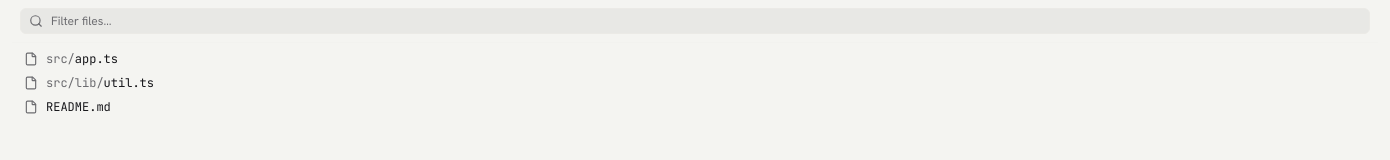
Test: FilesPane › filters the list by the query
Type "util" into the field labelled "Filter files".
click(706, 21); type("util")  # box [51,13,1361,29]
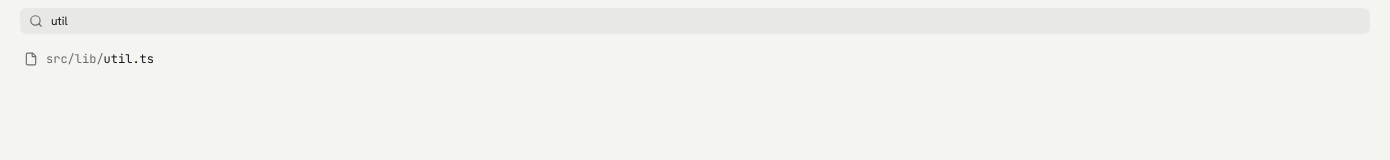
Expected: the button titled "src/lib/util.ts" is shown, [12,47,1378,71]
Now the button titled "src/app.ts" is gone
Now the button titled "README.md" is gone
